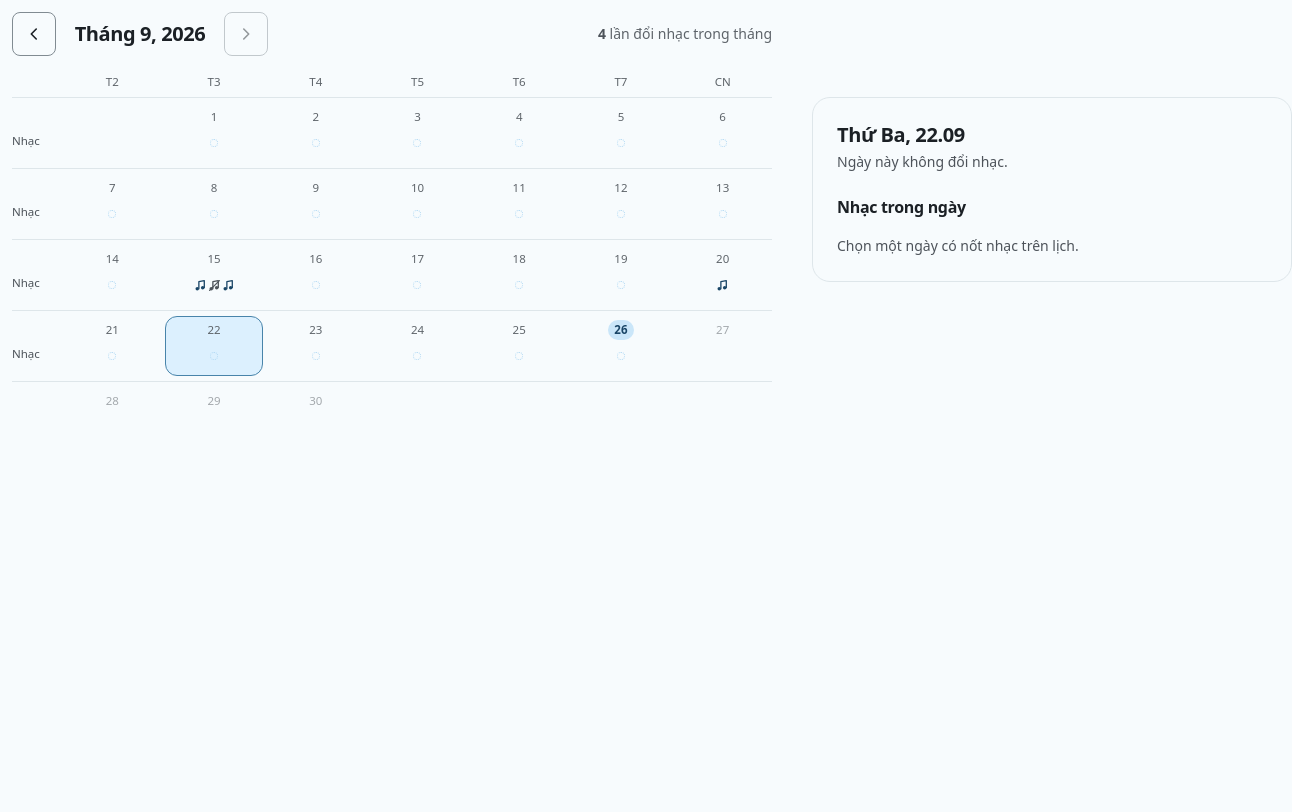
Test case: LichDau: lich gon › ngay chon san: mot the gom ten ngay, cau tom tat va Nhac trong ngay; ngay khong doi nhac thi khong co trinh phat
This screenshot has width=1292, height=812.
Check: the heading "Thứ Ba, 22.09" is shown, box [837, 121, 965, 148]
Check: the text "Ngày này không đổi nhạc." is shown, box [837, 152, 1008, 171]
Click the button "15": coordinates (214, 275) [165, 245, 263, 305]
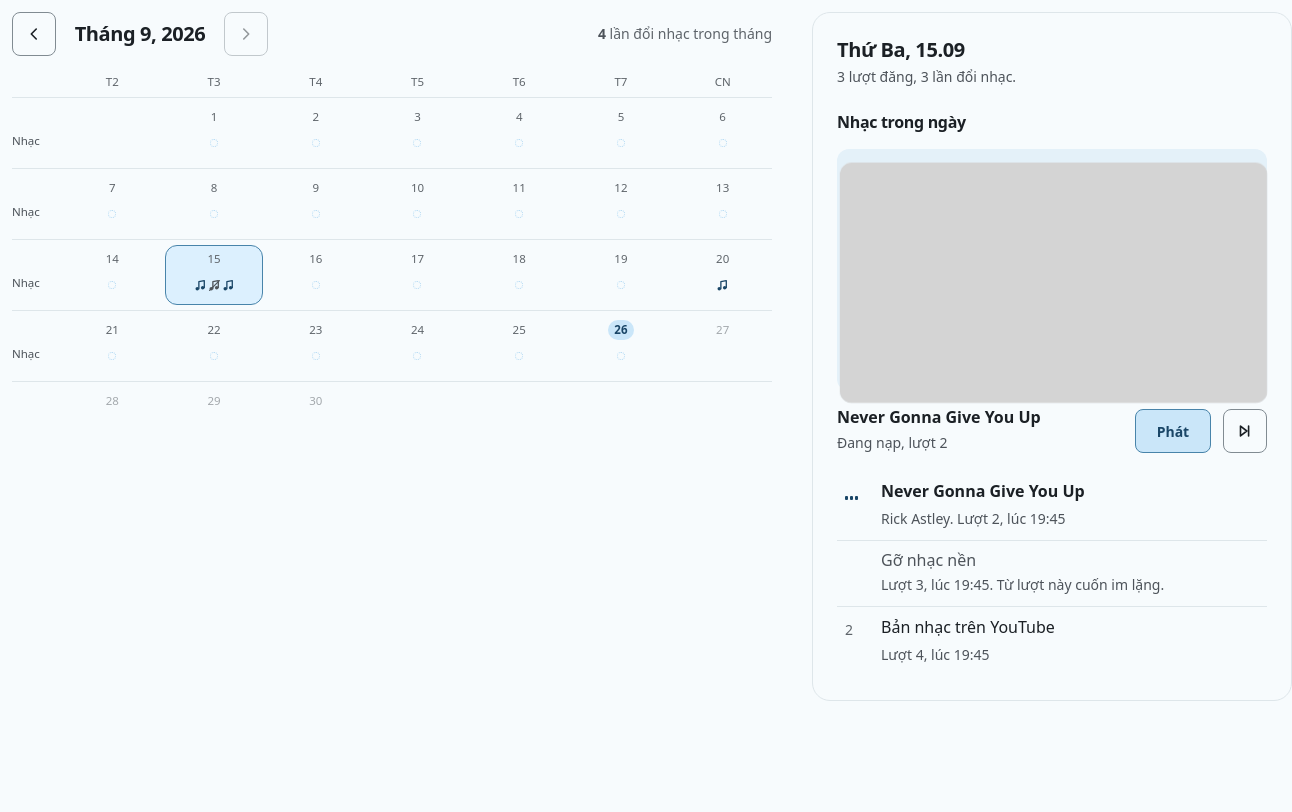
Check: the text "3 lượt đăng, 3 lần đổi nhạc." is shown, box [837, 67, 1016, 86]
